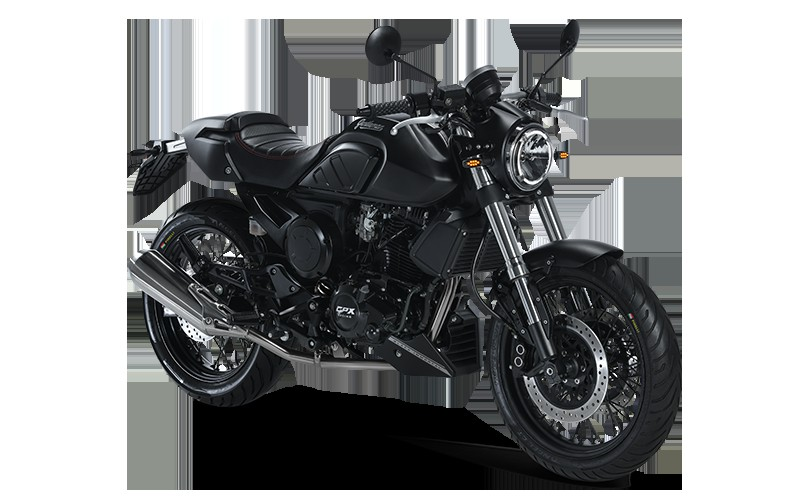motorcycle: (135, 67, 679, 483)
